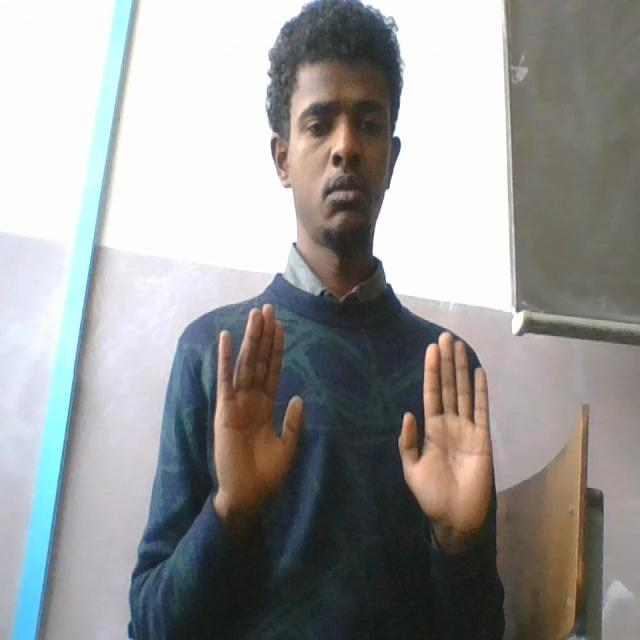megerem: (210, 293, 496, 537)
